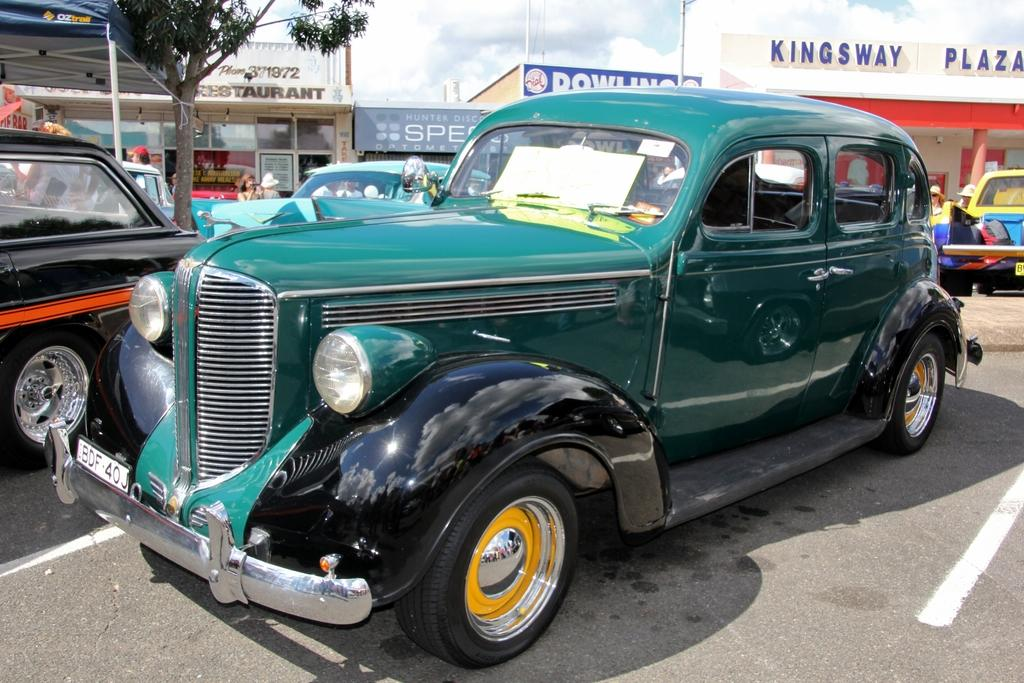Car: (38, 84, 979, 678), (0, 126, 227, 483), (935, 170, 1023, 284)
